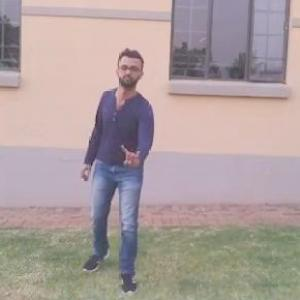takeoff-hand: (117, 138, 148, 174)
